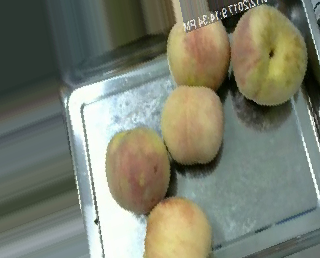Peach: (230, 4, 310, 107), (167, 16, 243, 95), (106, 128, 168, 214), (163, 85, 223, 166), (143, 195, 213, 257)
